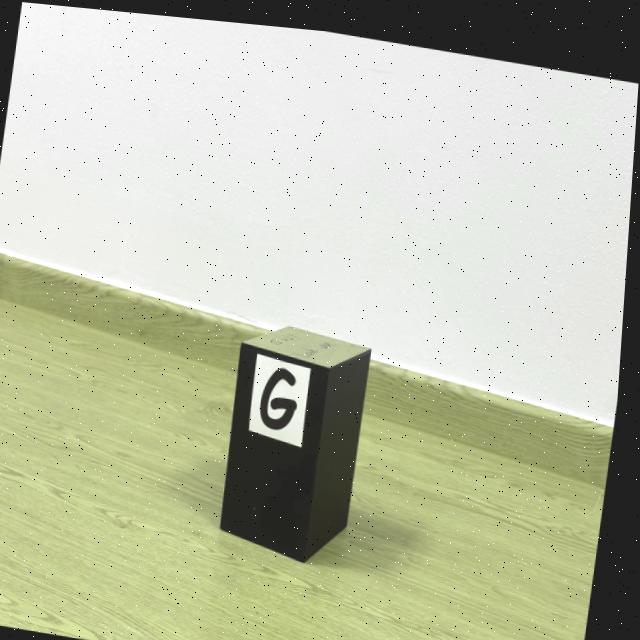G: (265, 362, 302, 424)
